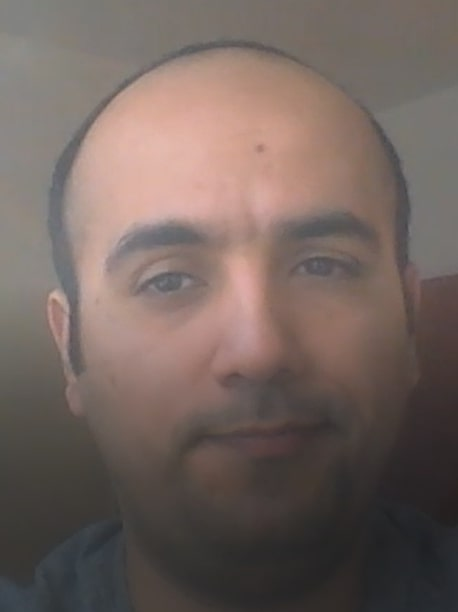Not Sleeping: (94, 210, 403, 325)
